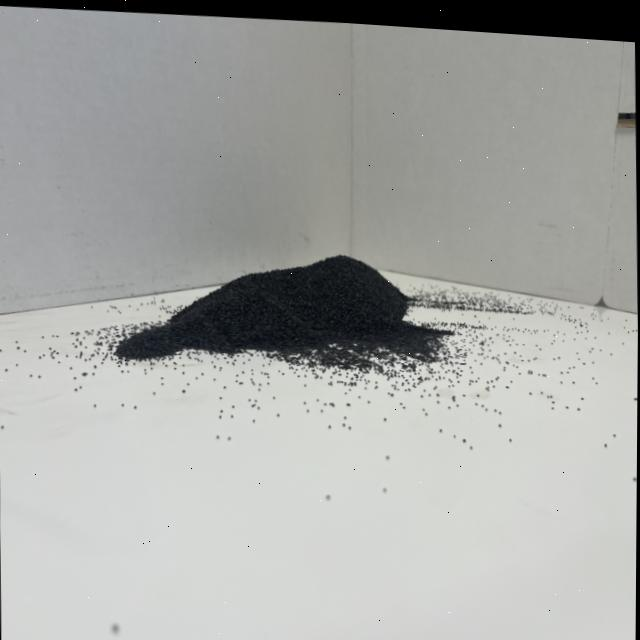Poppy Seeds: (95, 176, 491, 443)
